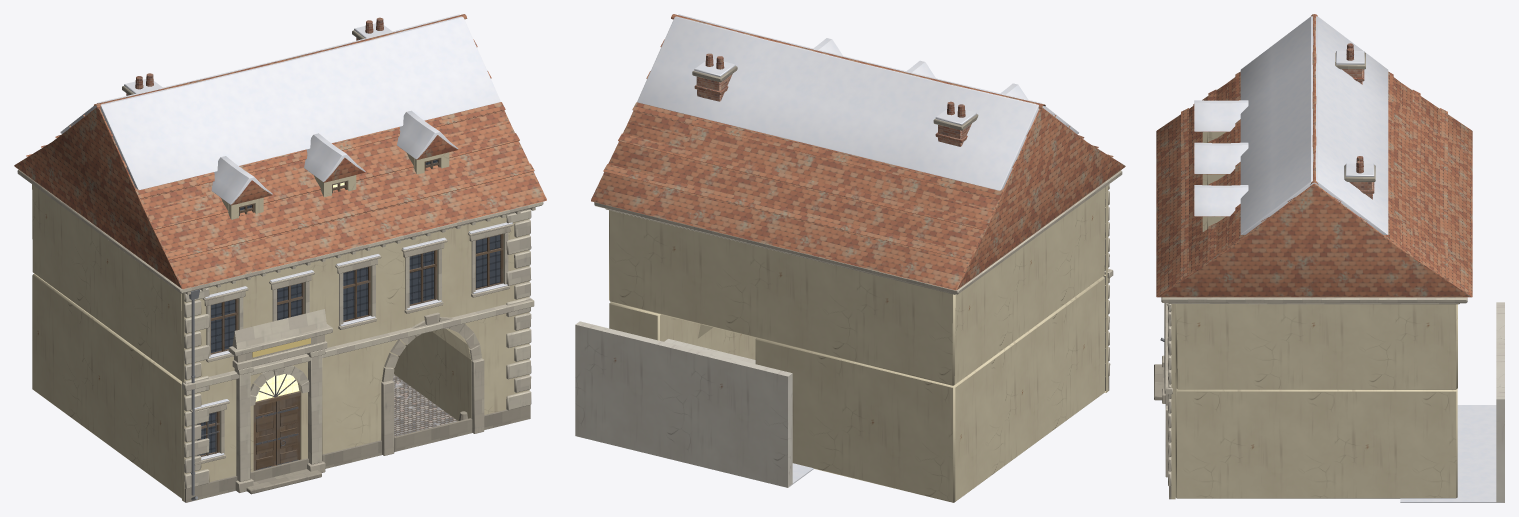
The model's file is kan_house.glb.
The picture shows the model from 3 angles, left to right: view 1: azimuth 30°, elevation 25°; view 2: azimuth 150°, elevation 25°; view 3: azimuth 270°, elevation 25°; orthographic projection. The views are drawn at different scales.
Visible parts, largest first — view 1: kan_house; view 2: kan_house; view 3: kan_house.
Part boxes in pixels (box(x1,y1,x2,y2)): kan_house: box(14, 14, 546, 502); kan_house: box(575, 14, 1125, 502); kan_house: box(1154, 14, 1504, 502).
Size of what is drawn, in the model's own units: 13.94 by 12.42 by 12.25.
Materials: 17 (16 with a texture image).
